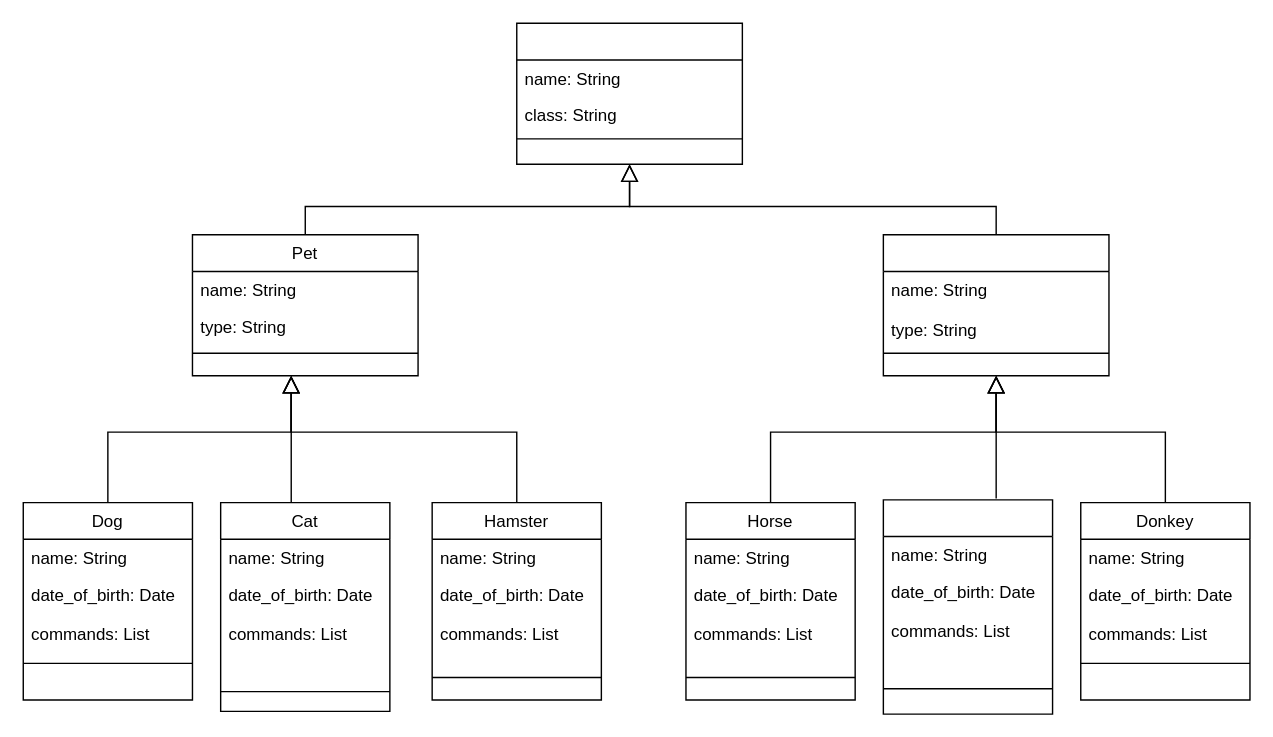
Some shapes in this 1273 by 737 pixel diagram are drawn without their labels. Each missing label, with the box of its shape:
Animals: (515, 22, 742, 164)
Camel: (882, 498, 1053, 714)
Pack_animals: (882, 233, 1109, 376)
